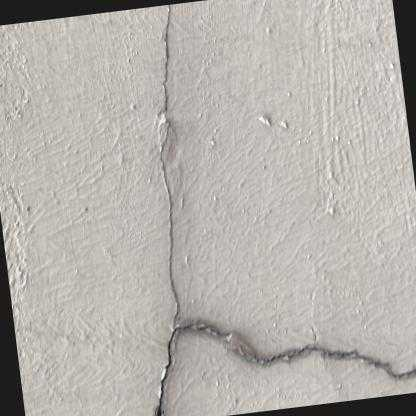crack: (152, 3, 416, 416)
